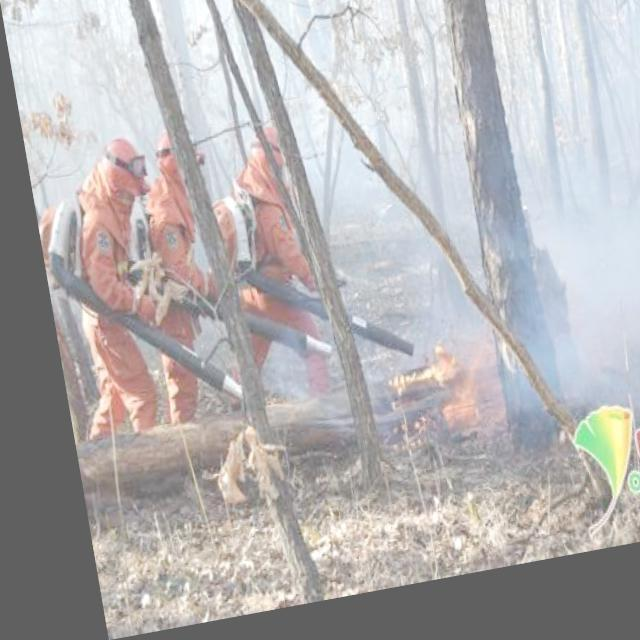Fire: (371, 343, 492, 470)
